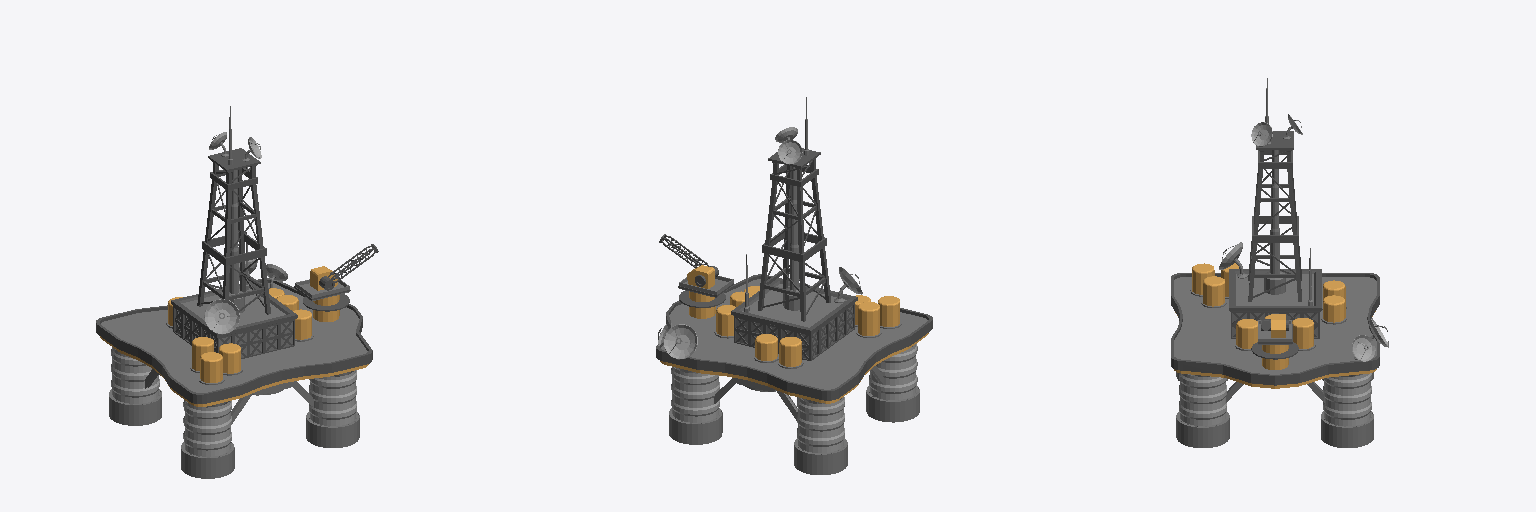
3 views of the same model, side by side, from view 1: azimuth 30°, elevation 25°; view 2: azimuth 150°, elevation 25°; view 3: azimuth 270°, elevation 25° (orthographic).
Parts seen in each view (by area): view 1: oil_rig1; view 2: oil_rig1; view 3: oil_rig1.
Boxes of the visible parts, box(x1,y1,x2,y2) form: oil_rig1: box(96, 106, 378, 478); oil_rig1: box(656, 97, 932, 474); oil_rig1: box(1171, 78, 1388, 447).
Size of the model in its own units: 62.18 by 84 by 51.34.
Materials: 1 (1 with a texture image).